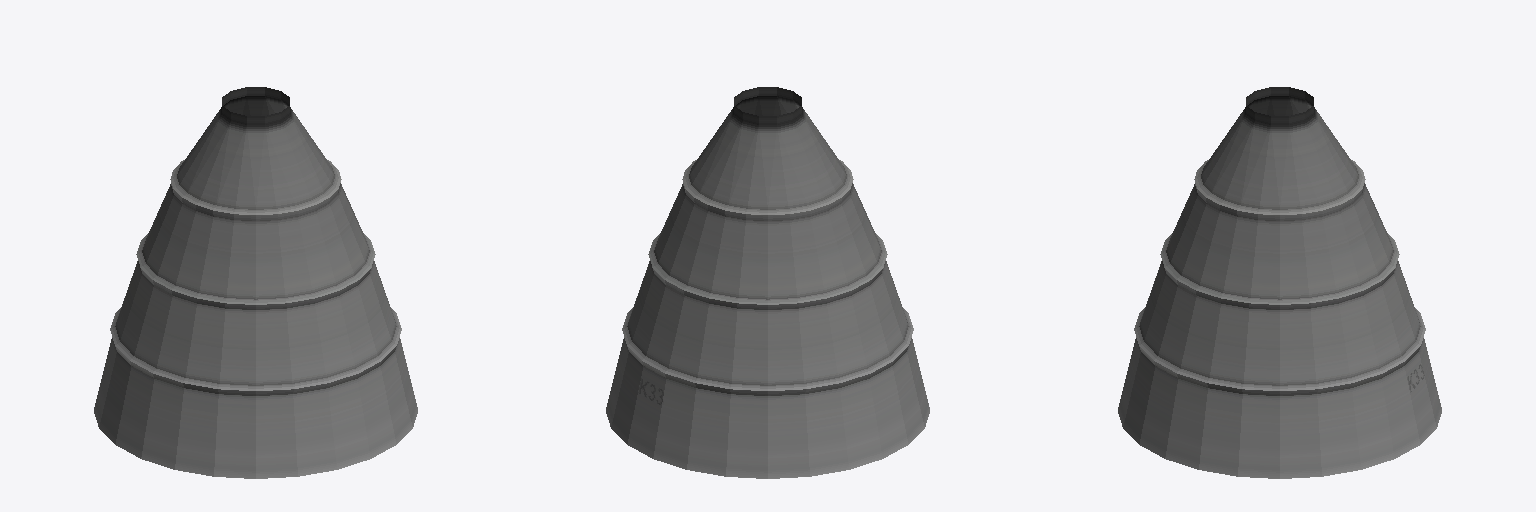
3 views of the same model, side by side, from view 1: azimuth 30°, elevation 25°; view 2: azimuth 150°, elevation 25°; view 3: azimuth 270°, elevation 25° (orthographic).
Visible parts, largest first — view 1: LLV_G_Engine_1_Nozzle; view 2: LLV_G_Engine_1_Nozzle; view 3: LLV_G_Engine_1_Nozzle.
Boxes of the visible parts, box(x1,y1,x2,y2) form: LLV_G_Engine_1_Nozzle: box(94, 87, 417, 478); LLV_G_Engine_1_Nozzle: box(606, 87, 929, 478); LLV_G_Engine_1_Nozzle: box(1118, 87, 1441, 478).
Size of the model in its own units: 0.81 by 0.85 by 0.81.
1 materials, 1 textured.